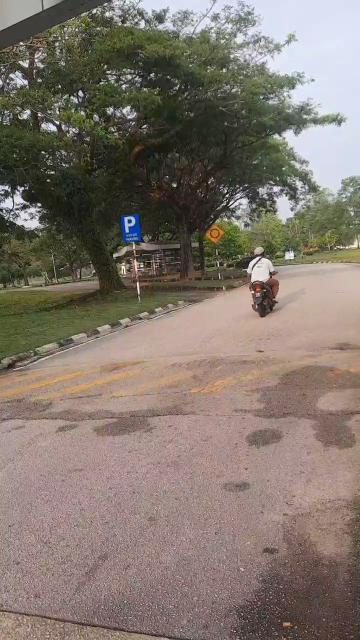motorcycle: (238, 243, 286, 319)
